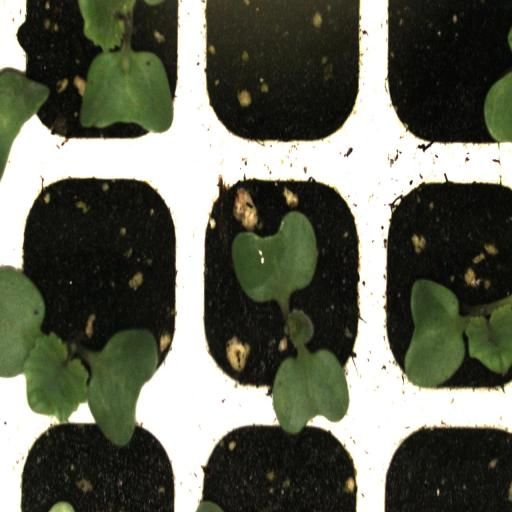noseedling: (191, 0, 374, 158)
seedling: (192, 156, 374, 413), (6, 158, 190, 410), (372, 158, 512, 413), (4, 0, 192, 159)
